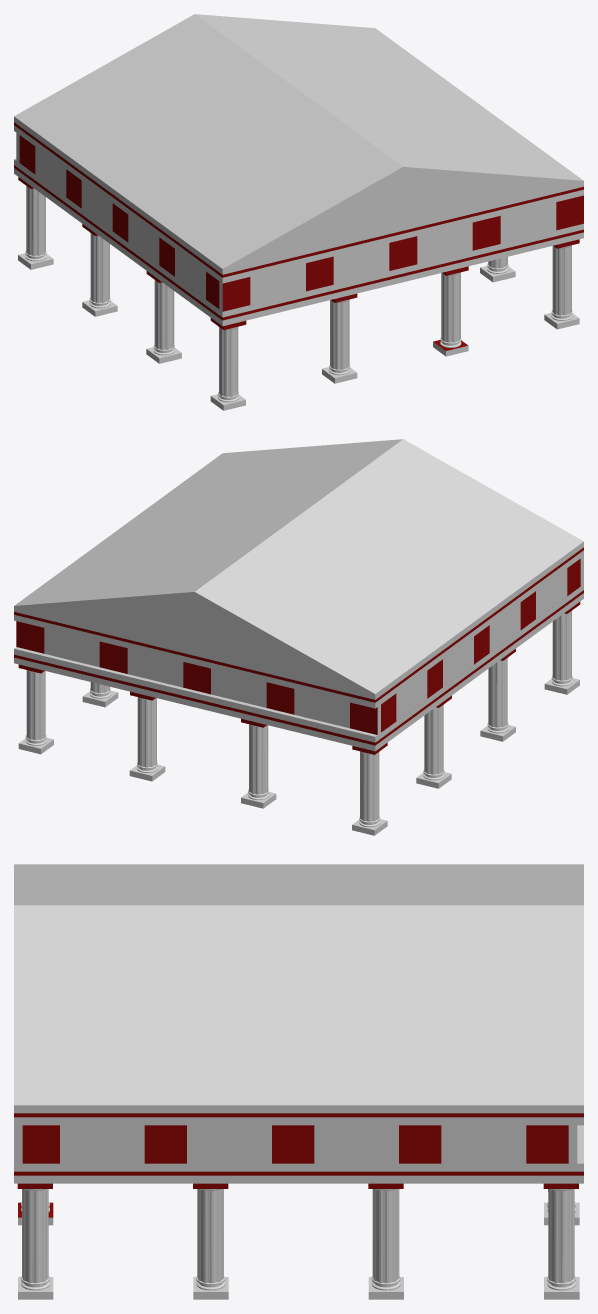
The model's file is templet.fbx.
3 views of the same model, one above another, from view 1: azimuth 30°, elevation 25°; view 2: azimuth 150°, elevation 25°; view 3: azimuth 270°, elevation 25° (orthographic). The views are drawn at different scales.
Visible parts, largest first — view 1: group17_pasted__pCube1; view 2: group17_pasted__pCube1; view 3: group17_pasted__pCube1.
Part boxes in pixels (x1,y1,x2,y2): group17_pasted__pCube1: (14, 14, 583, 410); group17_pasted__pCube1: (14, 439, 583, 835); group17_pasted__pCube1: (14, 864, 583, 1299).
Size of the model in its own units: 13 by 6.93 by 13.
